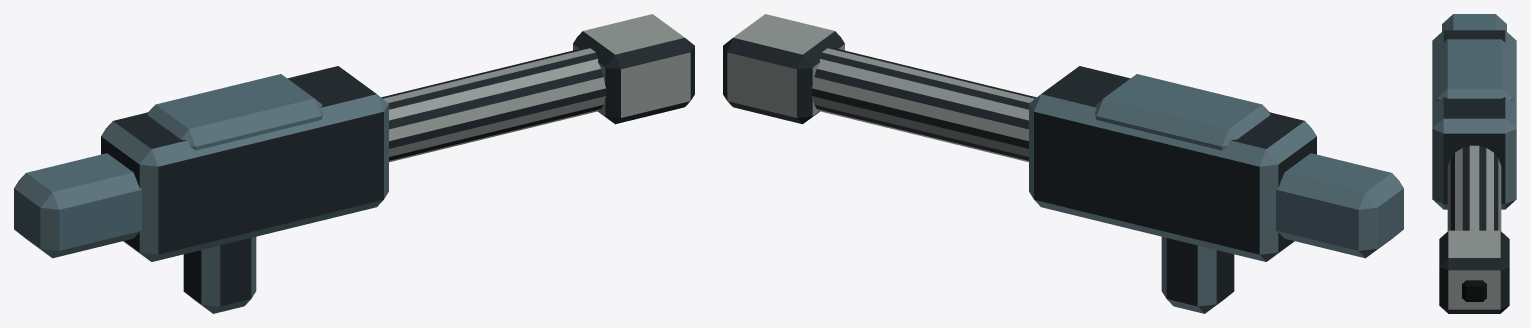
The model's file is weapon_heavy_rifle.glb.
The picture shows the model from 3 angles, left to right: view 1: azimuth 30°, elevation 25°; view 2: azimuth 150°, elevation 25°; view 3: azimuth 270°, elevation 25°; orthographic projection. The views are drawn at different scales.
Visible parts, largest first — view 1: Rifle receiver, Rifle barrel, Rifle stock, Rifle muzzle, Rifle top housing, Rifle magazine; view 2: Rifle receiver, Rifle barrel, Rifle stock, Rifle muzzle, Rifle top housing, Rifle magazine; view 3: Rifle receiver, Rifle muzzle, Rifle top housing, Rifle barrel, Rifle stock, Rifle dark bore.
Boxes of the visible parts, x1=… form: Rifle receiver: x1=101, y1=66, x2=388, y2=261; Rifle barrel: x1=381, y1=48, x2=606, y2=162; Rifle stock: x1=14, y1=153, x2=141, y2=258; Rifle muzzle: x1=573, y1=14, x2=694, y2=124; Rifle top housing: x1=147, y1=74, x2=322, y2=150; Rifle magazine: x1=183, y1=237, x2=256, y2=313; Rifle receiver: x1=1029, y1=66, x2=1316, y2=261; Rifle barrel: x1=811, y1=48, x2=1036, y2=162; Rifle stock: x1=1276, y1=153, x2=1403, y2=258; Rifle muzzle: x1=723, y1=14, x2=844, y2=124; Rifle top housing: x1=1095, y1=74, x2=1270, y2=150; Rifle magazine: x1=1161, y1=237, x2=1234, y2=313; Rifle receiver: x1=1432, y1=30, x2=1516, y2=209; Rifle muzzle: x1=1439, y1=230, x2=1509, y2=313; Rifle top housing: x1=1436, y1=39, x2=1512, y2=101; Rifle barrel: x1=1447, y1=145, x2=1501, y2=230; Rifle stock: x1=1442, y1=14, x2=1506, y2=31; Rifle dark bore: x1=1462, y1=280, x2=1486, y2=301.
Bounding box in the file's own units: 0.992 × 0.2854 × 0.1365.
